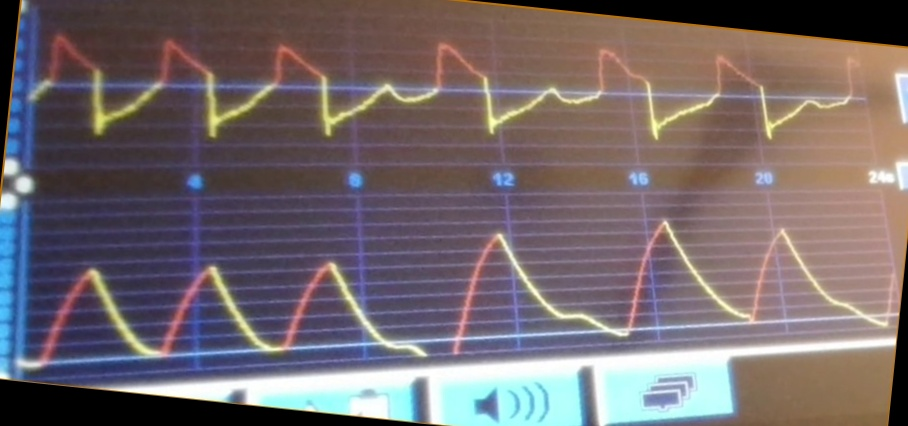Ineffective_effort Flow: (36, 31, 856, 152)
Ineffective_effort Volume: (31, 214, 893, 359)
